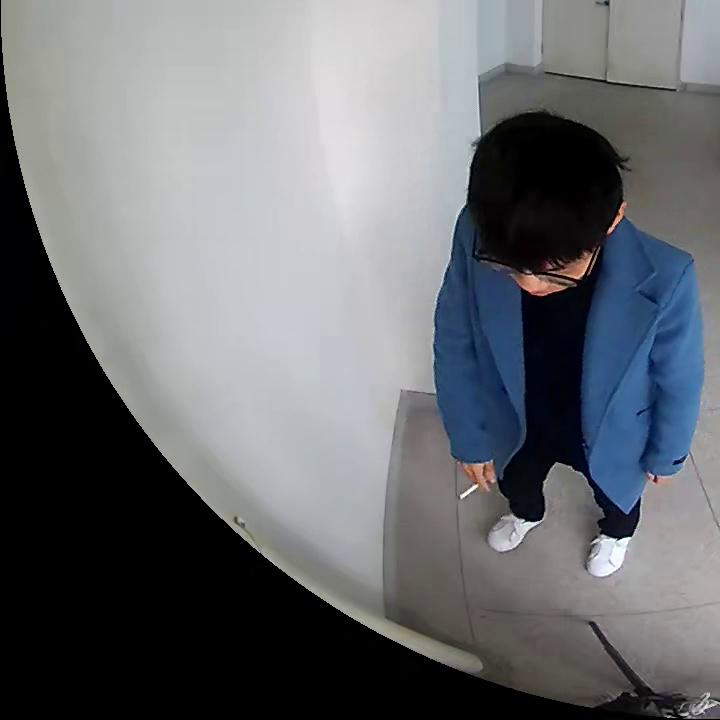handsmoke: (458, 464, 500, 500)
mouthwithoutsmoke: (469, 112, 627, 299)
